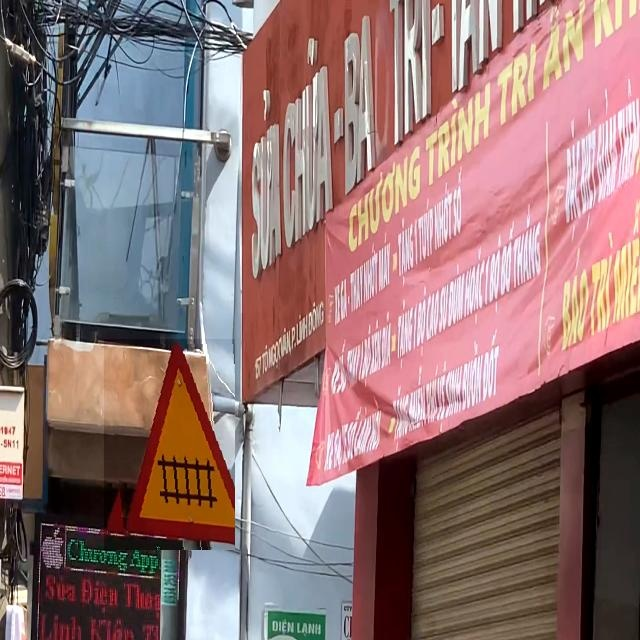bien_nguy_hiem: (104, 339, 235, 550)
